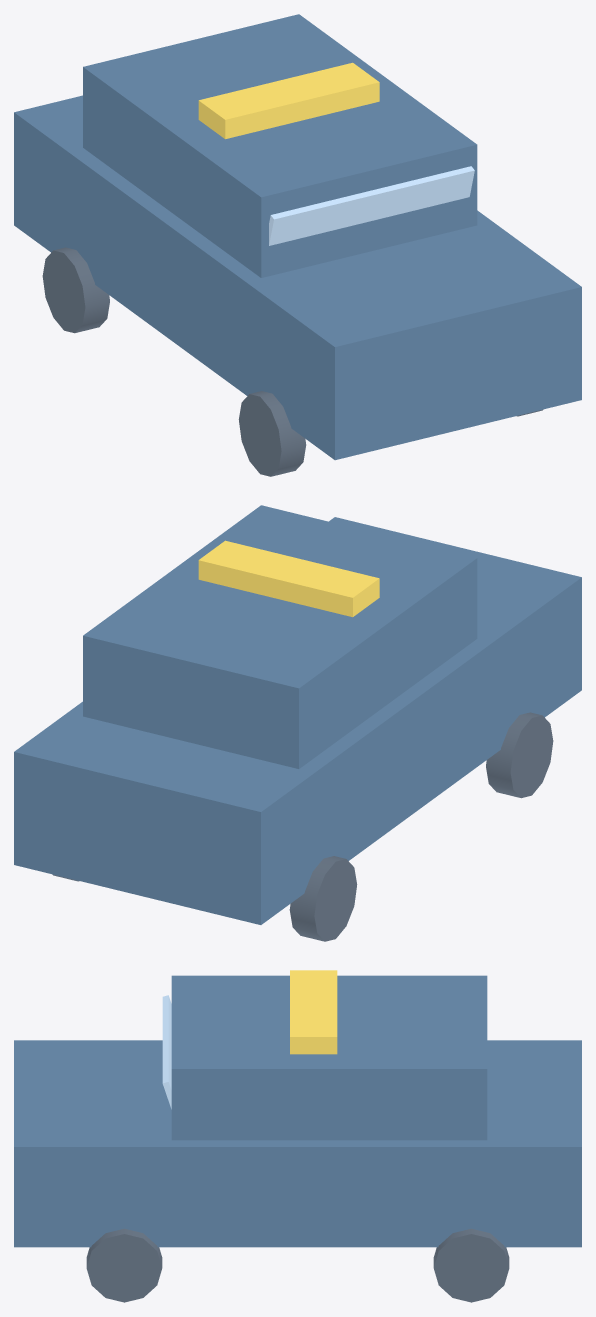
The model's file is suv_response.glb.
3 views of the same model, one above another, from view 1: azimuth 30°, elevation 25°; view 2: azimuth 150°, elevation 25°; view 3: azimuth 270°, elevation 25° (orthographic). The views are drawn at different scales.
Size of the model in its own units: 0.88 by 0.84 by 1.8.
